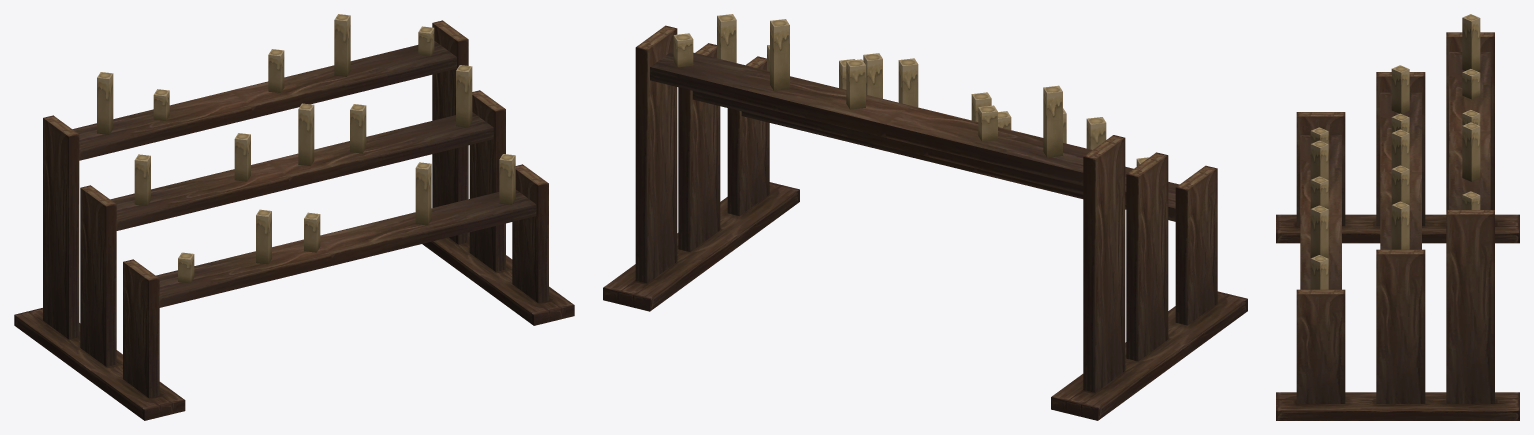
File: q01c_thing_009.FBX
3 renders of one model, left to right at view 1: azimuth 30°, elevation 25°; view 2: azimuth 150°, elevation 25°; view 3: azimuth 270°, elevation 25°, orthographic. The views are drawn at different scales.
Visible parts, largest first — view 1: q01c_thing_009; view 2: q01c_thing_009; view 3: q01c_thing_009.
Boxes of the visible parts, x1,y1,x2,y2 form: q01c_thing_009: [14, 14, 574, 420]; q01c_thing_009: [603, 14, 1247, 420]; q01c_thing_009: [1276, 14, 1519, 420].
Size of the model in its own units: 267 by 150 by 140.
